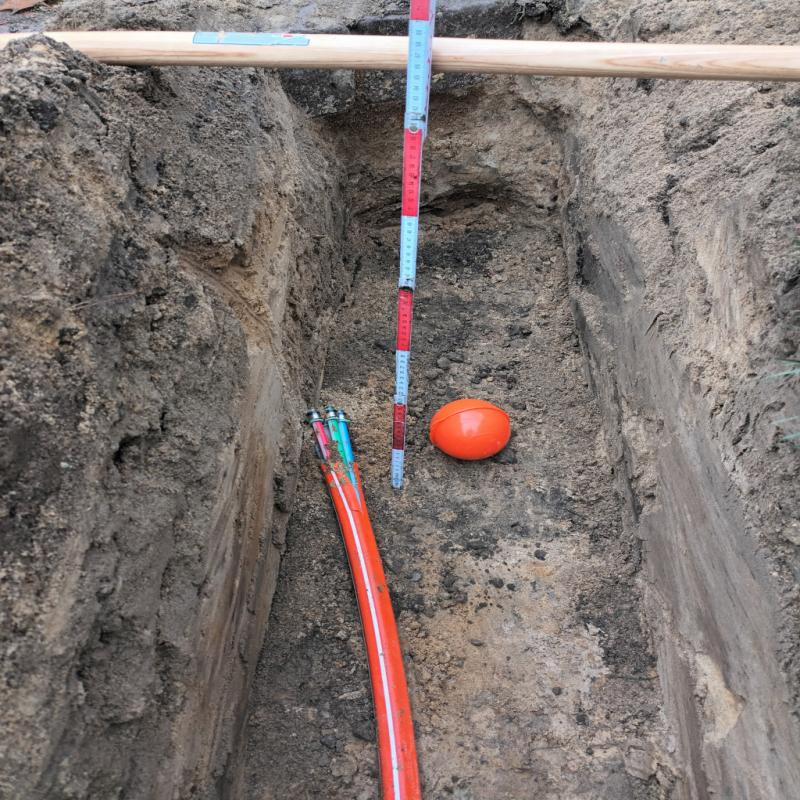Kugelmarker: (429, 398, 511, 460)
Orang-Speednetrohrchen: (305, 406, 419, 799)
